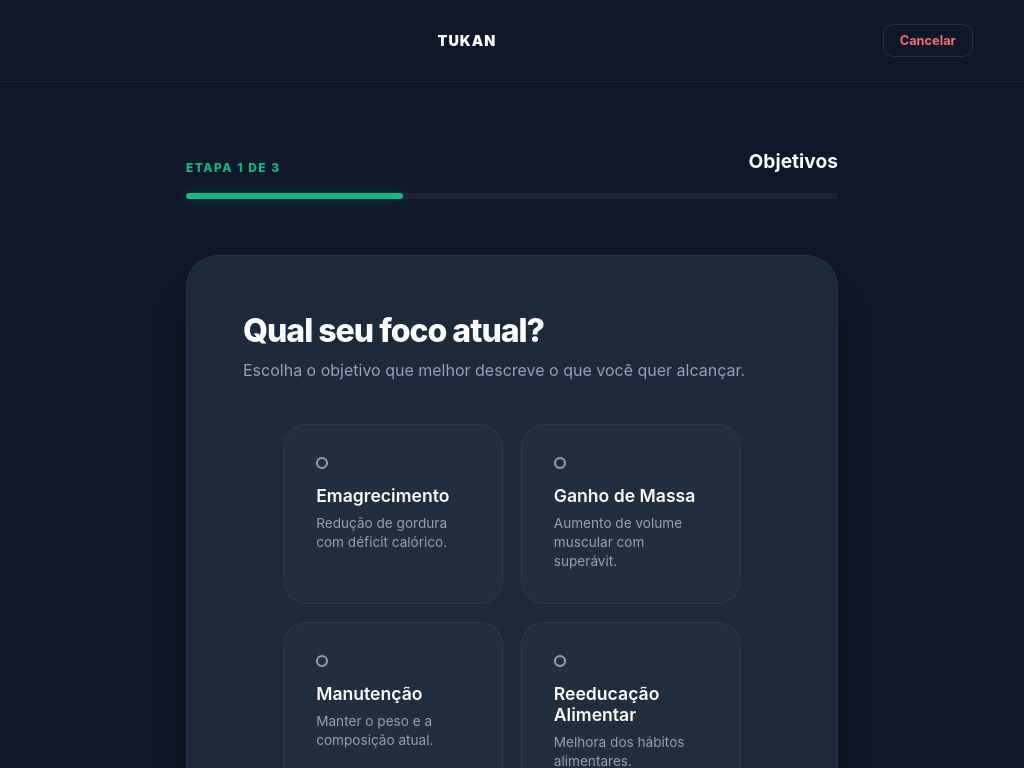
Scenario: TriagemView — diet type selection and payload › shows the restrictive-diet caution for CARNIVORA
The image size is (1024, 768).
Click the element with class "selectable-card" that starts with "Emagrecimento" at (393, 514), box top-left (283, 424), bottom-right (503, 604)
(page scrolled)
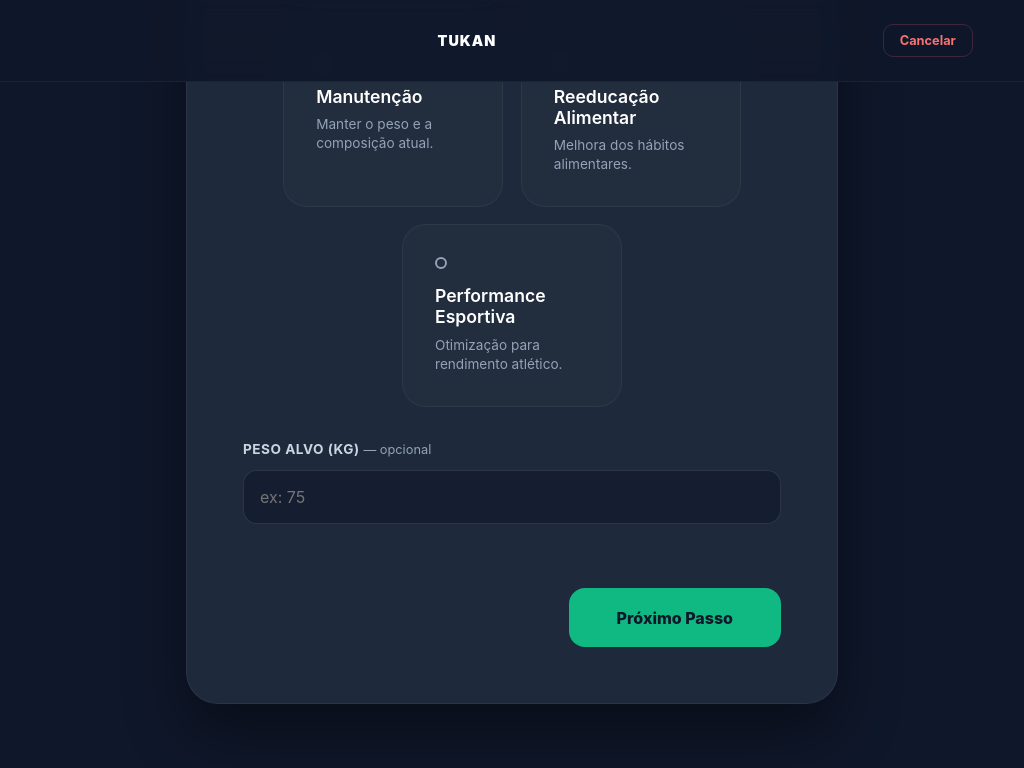
Click the button "Próximo Passo" at (675, 618), box top-left (569, 588), bottom-right (781, 647)
(page scrolled)
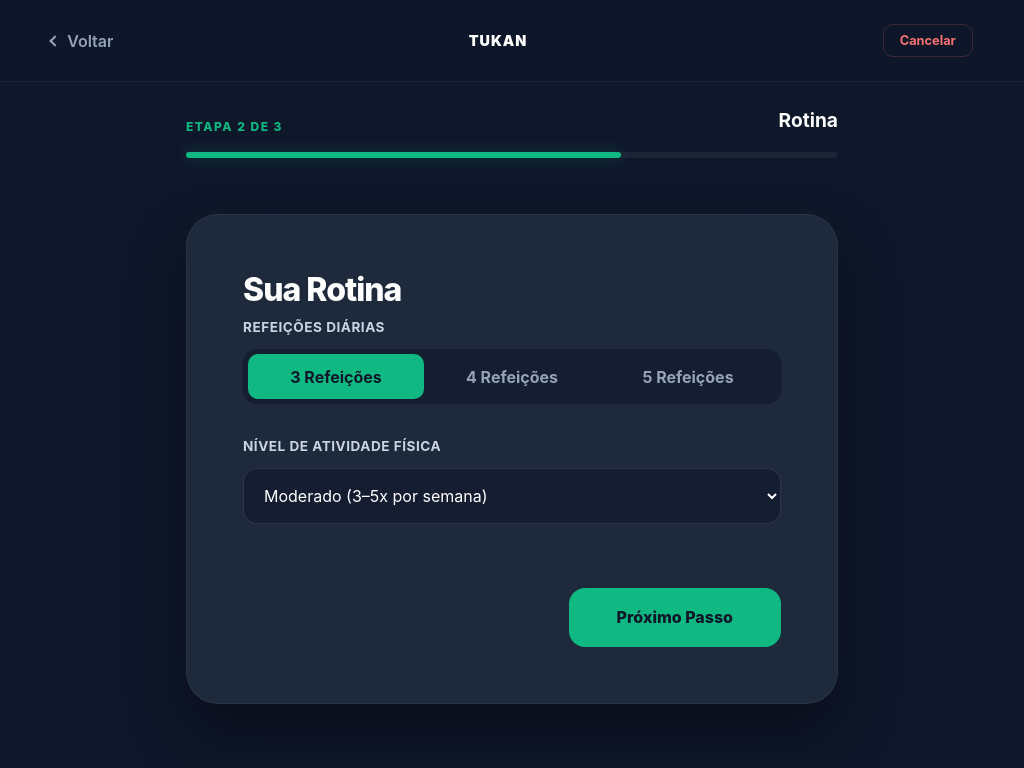
Click the button "Próximo Passo" at (675, 617), box top-left (569, 588), bottom-right (781, 647)
(page scrolled)
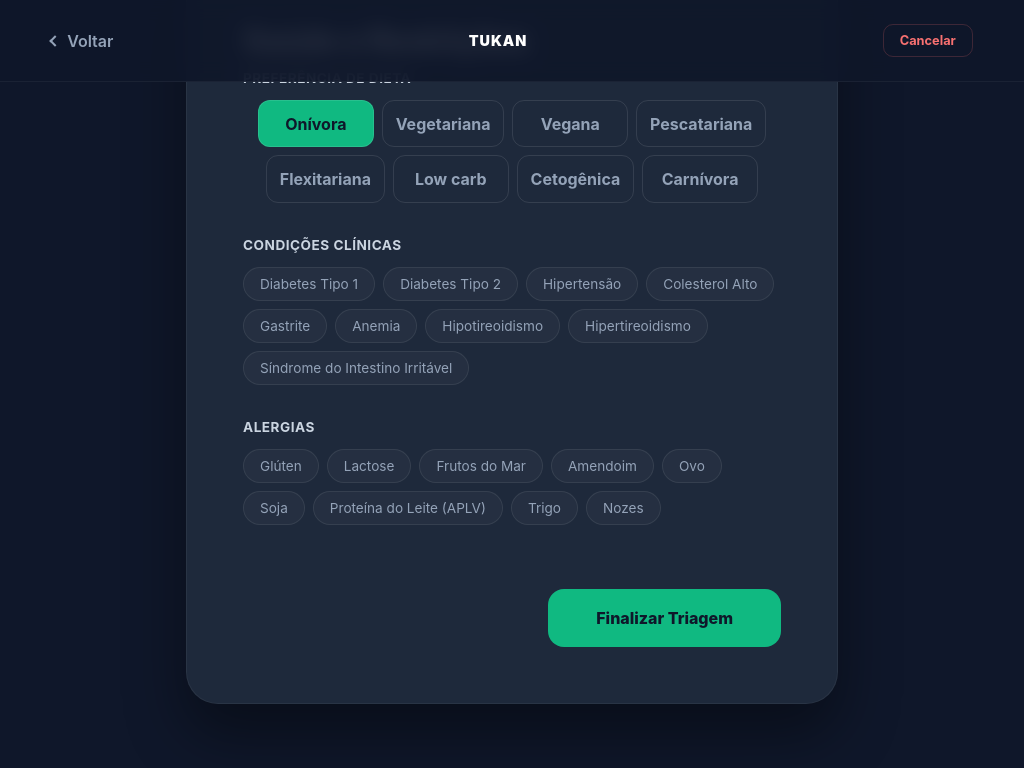
Click the button "Carnívora" at (700, 179), box top-left (642, 156), bottom-right (758, 203)
(page scrolled)
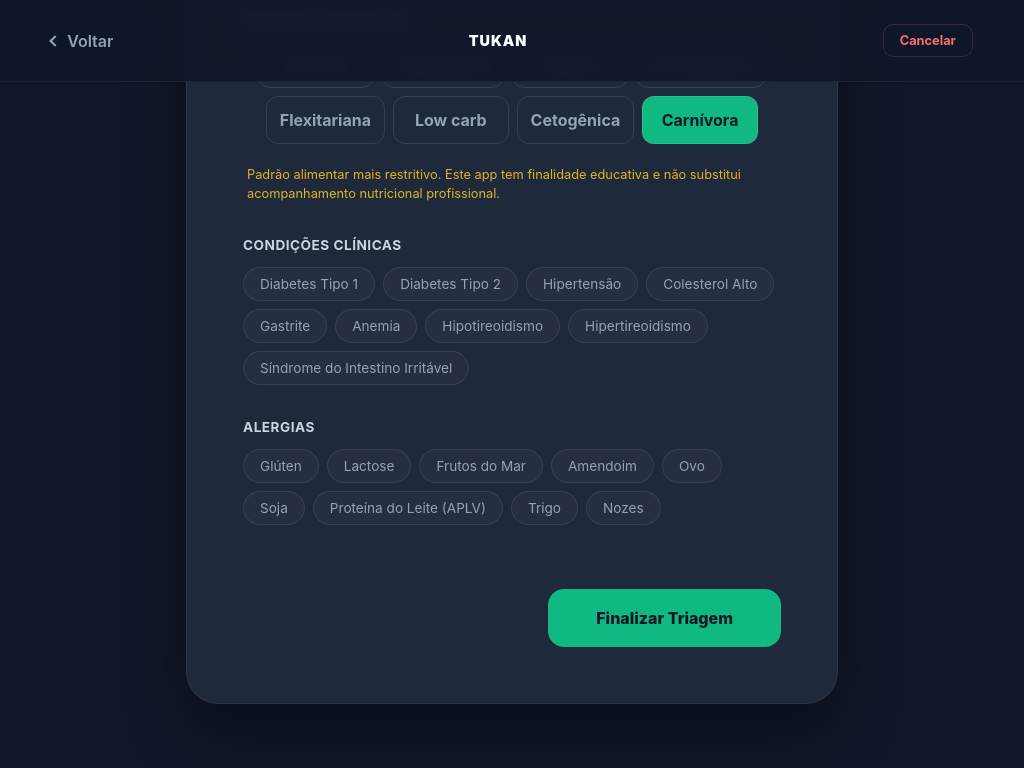
Expected: the text with class "diet-caution" is shown, top-left (247, 166), bottom-right (777, 203)
